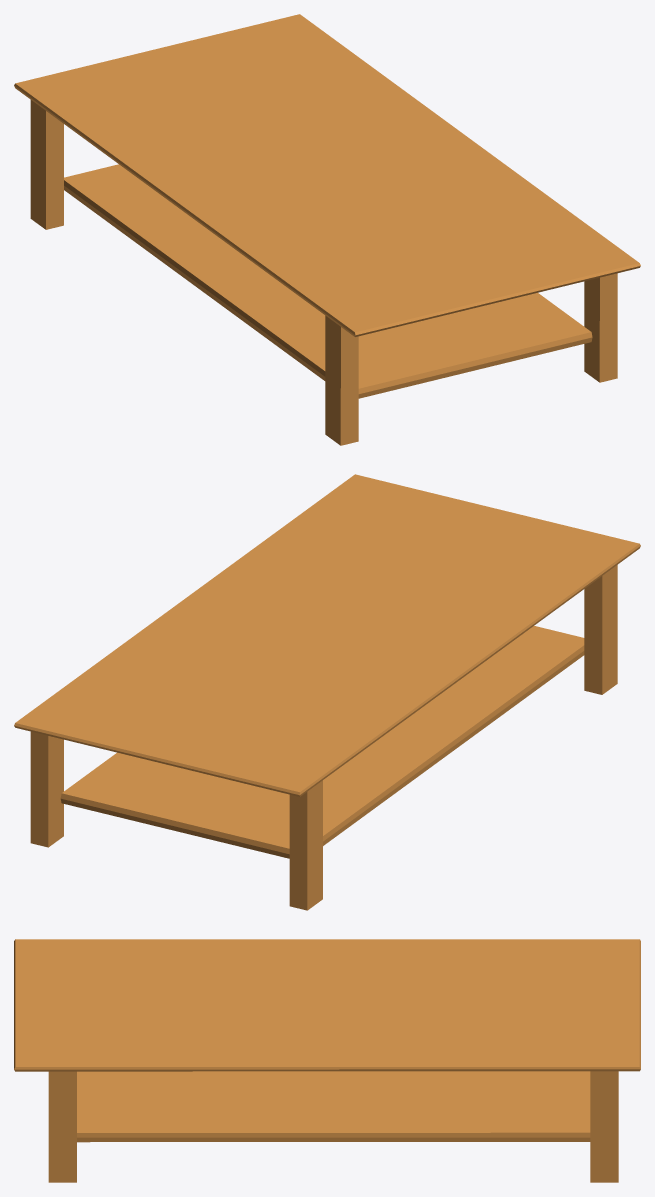
Rendered from table.gltf.
3 renders of one model, top to bottom at view 1: azimuth 30°, elevation 25°; view 2: azimuth 150°, elevation 25°; view 3: azimuth 270°, elevation 25°, orthographic. The views are drawn at different scales.
Visible parts, largest first — view 1: Cube_013_Cube.012; view 2: Cube_013_Cube.012; view 3: Cube_013_Cube.012.
Part boxes in pixels (<box>): Cube_013_Cube.012: <box>14,14,640,445</box>; Cube_013_Cube.012: <box>14,474,640,910</box>; Cube_013_Cube.012: <box>14,939,640,1182</box>.
Bounding box in the file's own units: 1.01 × 0.4317 × 2.09.
